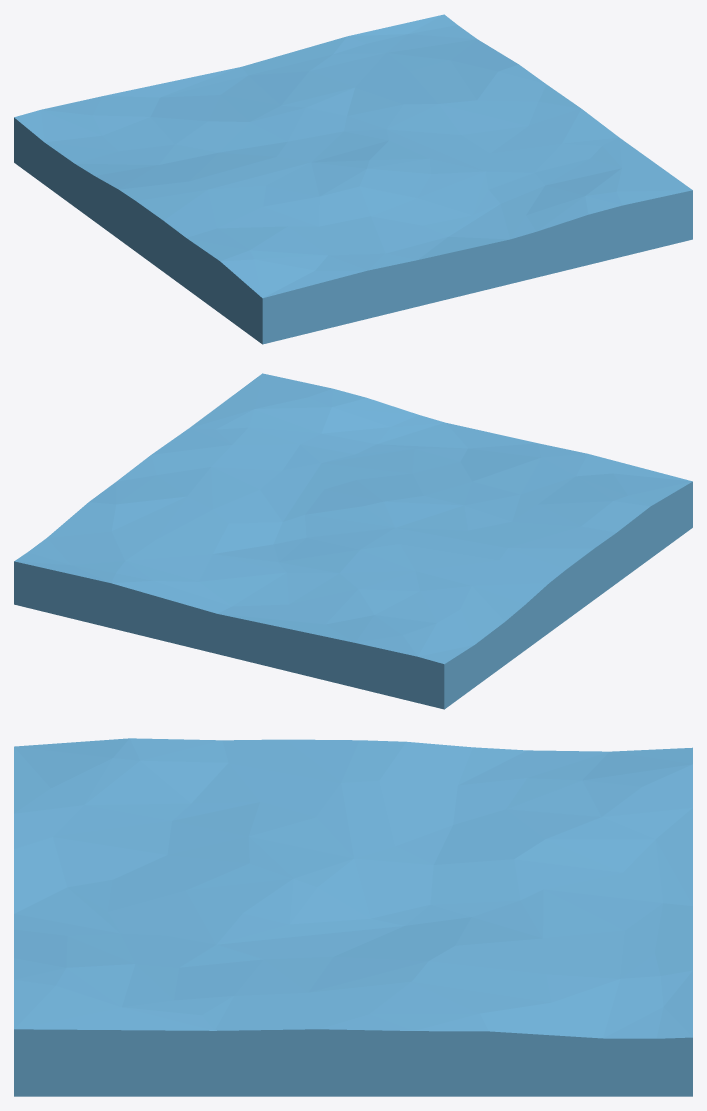
The model's file is water.gltf.
3 views of the same model, one above another, from view 1: azimuth 30°, elevation 25°; view 2: azimuth 150°, elevation 25°; view 3: azimuth 270°, elevation 25° (orthographic). The views are drawn at different scales.
Visible parts, largest first — view 1: water; view 2: water; view 3: water.
Boxes of the visible parts, left/top/right/bottom form: water: left=14, top=14, right=692, bottom=344; water: left=14, top=373, right=692, bottom=709; water: left=14, top=738, right=692, bottom=1096.
Bounding box in the file's own units: 7.8 × 0.9041 × 7.8.
